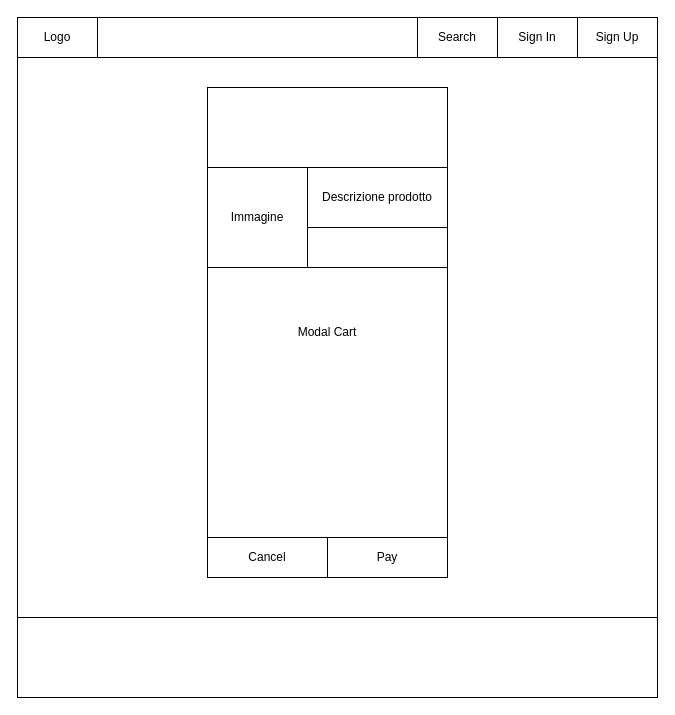
This 675x715 diagram has some shape labels left out. Here are the shapes that lost their labels. From the top down, the box of each, then its label:
(96, 16, 418, 58): Menu
(206, 86, 448, 168): Elemento
(306, 226, 448, 268): Quantita' + remove button
(16, 616, 658, 698): Footer
